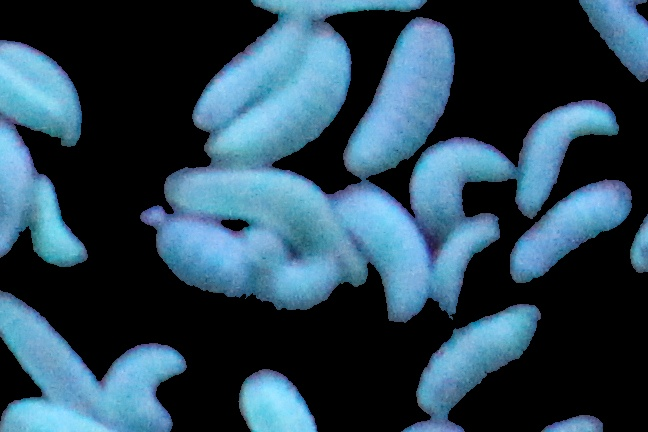larvae: (159, 165, 364, 284), (207, 29, 349, 164), (346, 19, 460, 175), (416, 304, 546, 421), (507, 180, 635, 287), (192, 15, 312, 129), (1, 292, 104, 417), (512, 100, 619, 212), (341, 182, 429, 318), (410, 140, 514, 230), (100, 341, 195, 432), (1, 42, 79, 147), (152, 220, 253, 301), (429, 214, 498, 315), (1, 41, 65, 136), (24, 175, 87, 269), (251, 258, 345, 315), (1, 116, 35, 264)
